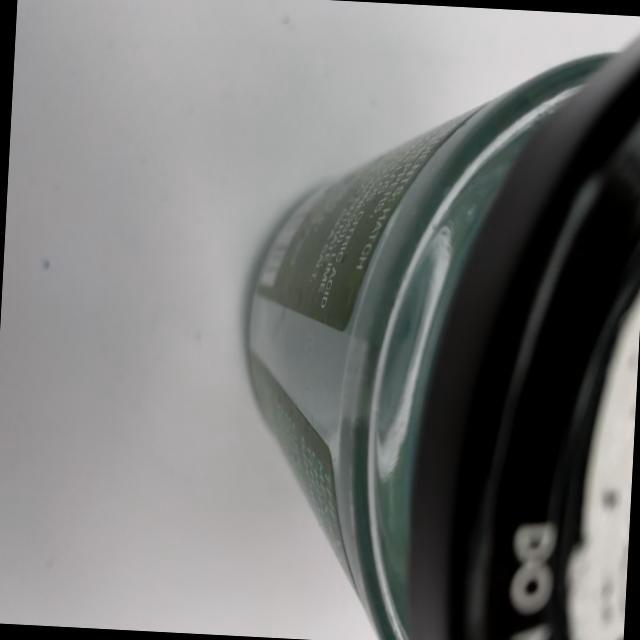glass: (213, 0, 640, 640)
